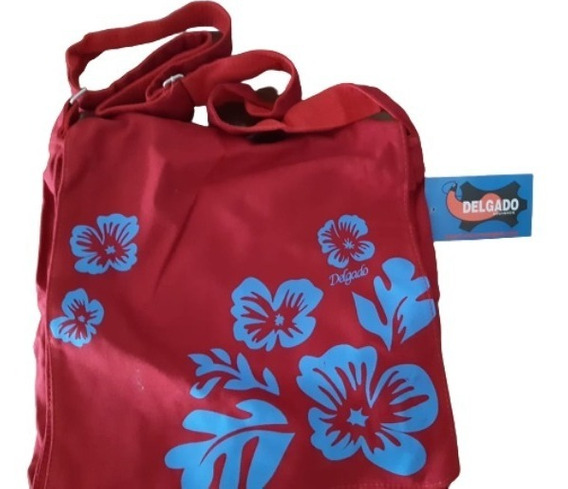cartera: (27, 1, 463, 489)
